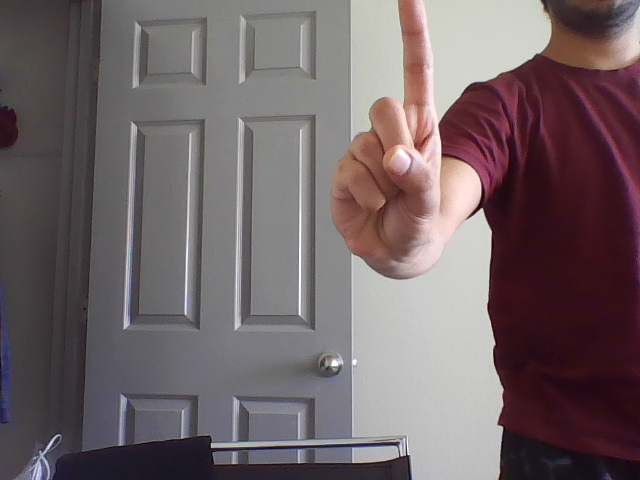one: (365, 1, 455, 200)
